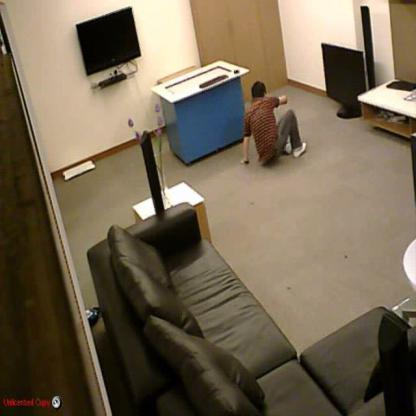Person: (242, 82, 306, 167)
